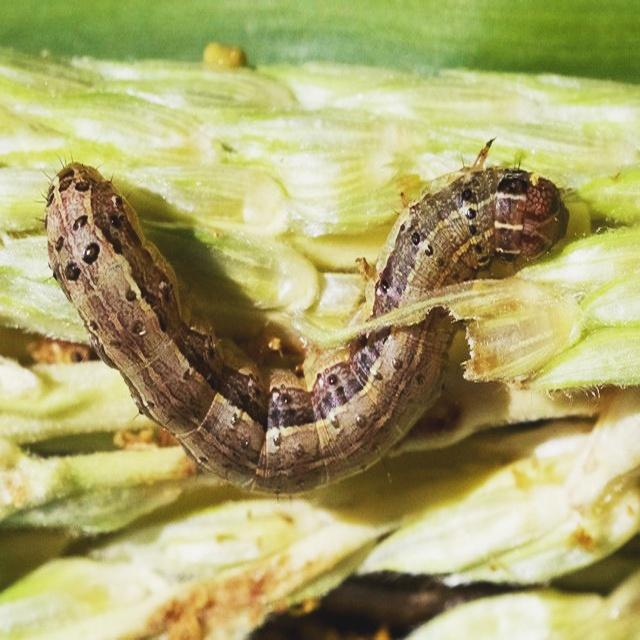gusano_cogollero: (42, 154, 574, 503)
